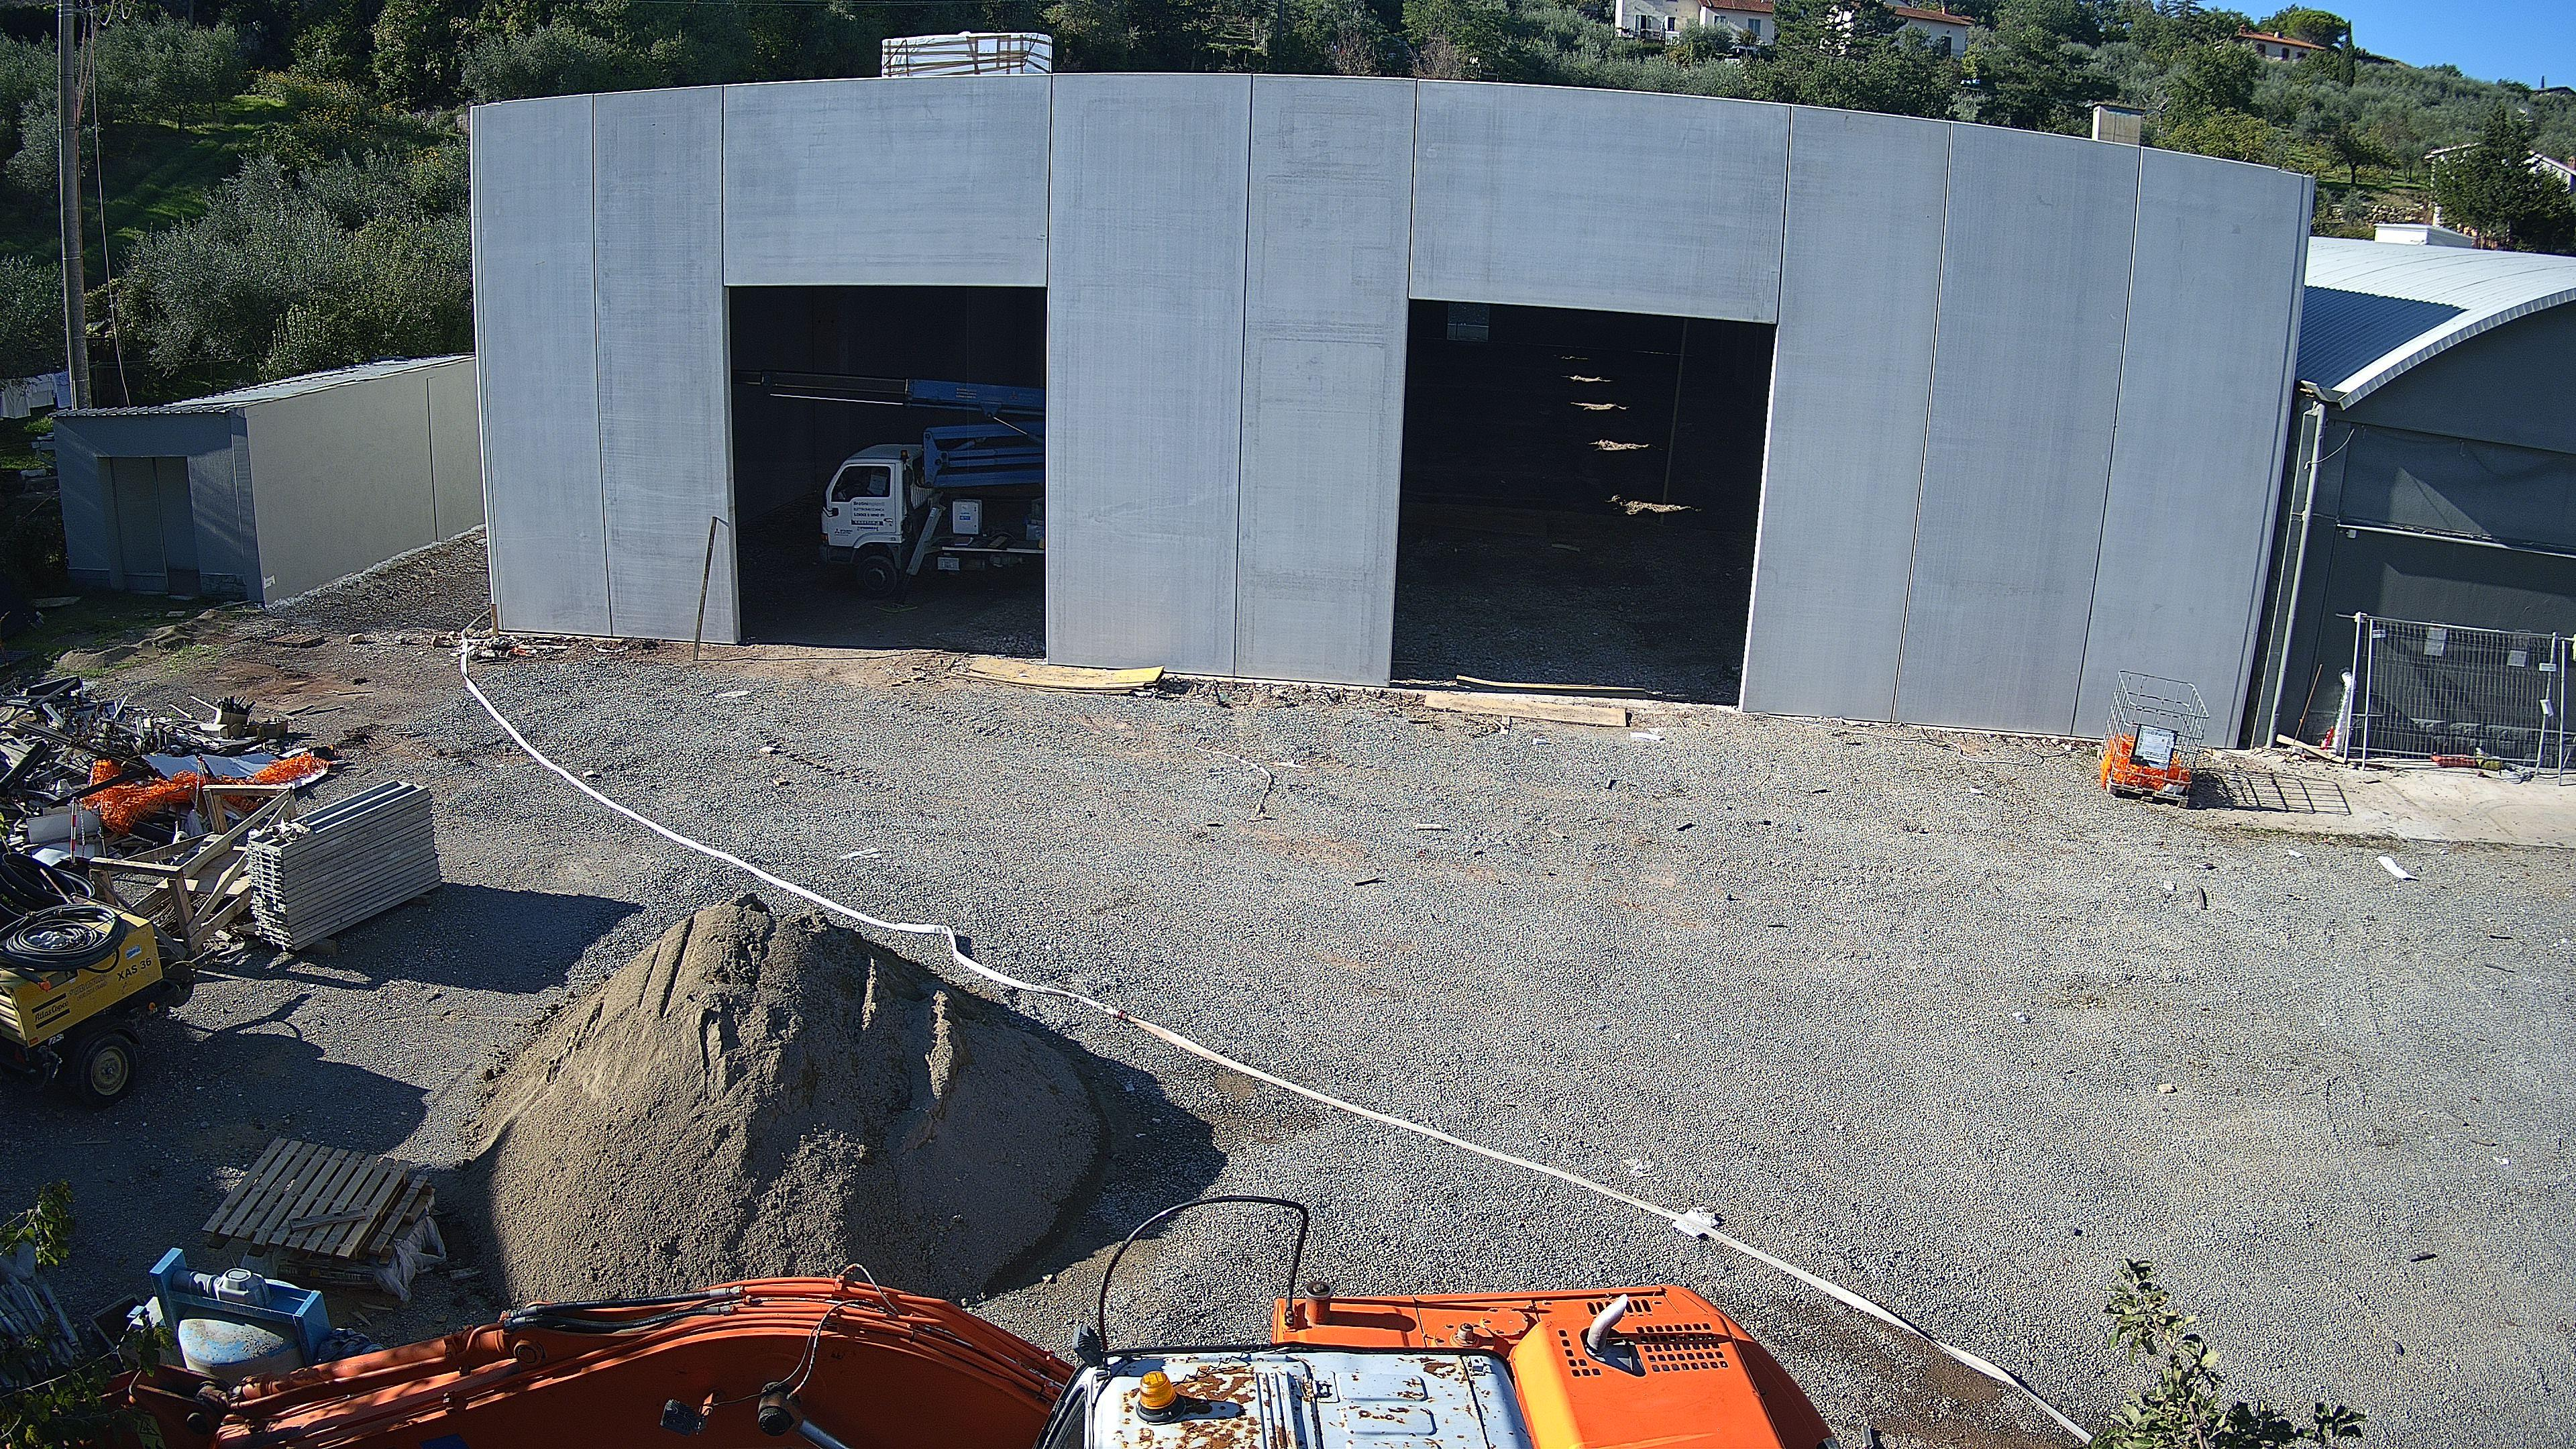Aerial platforms: (732, 368, 1047, 600)
excavator: (76, 1191, 1833, 1449)
